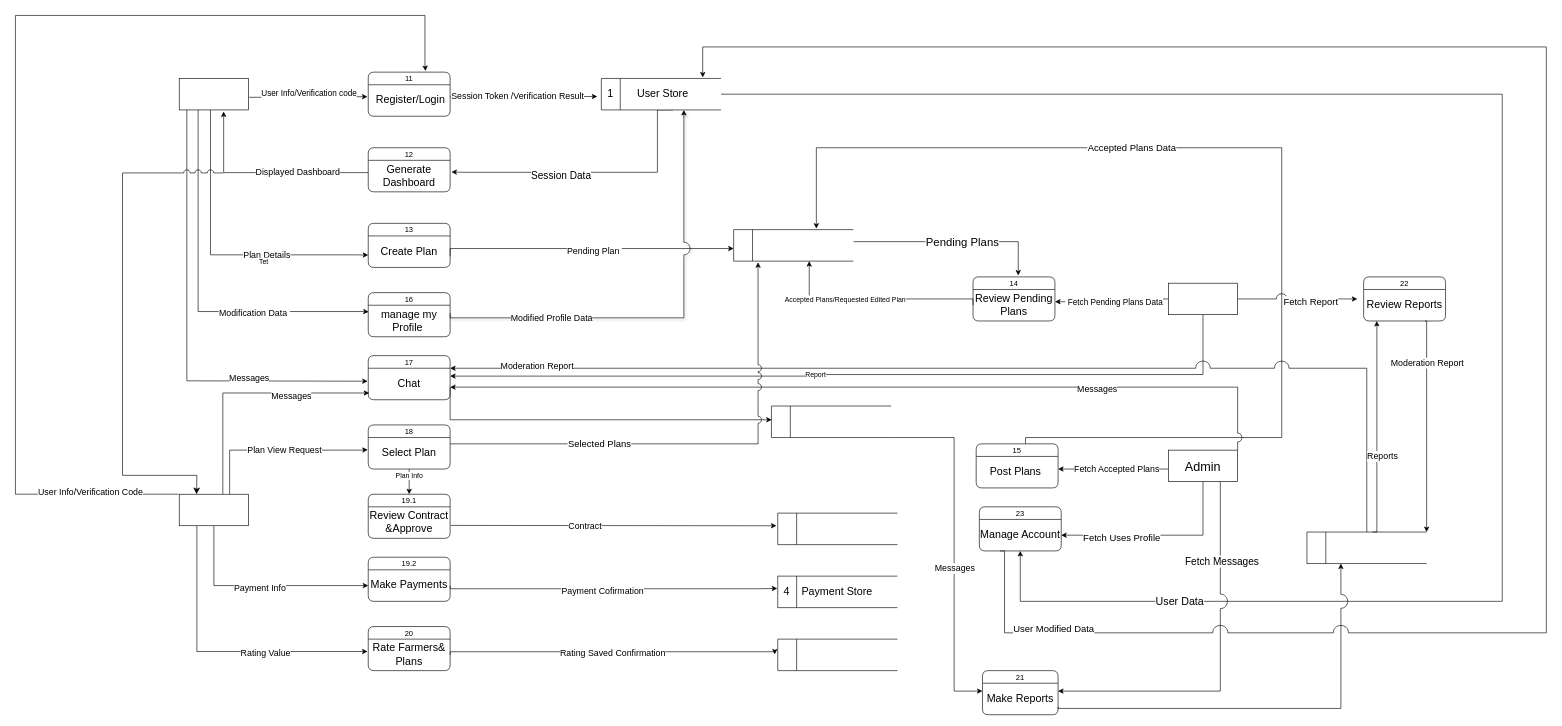
The diagram is 1562 pixels wide and 726 high, and some of its shapes have lost their labels. The centre of each missing label's shape, as x and y in pixels:
"1 Plans Store" belongs at [793,245].
"2 Messages Store" belongs at [831,421].
"3 Documents Store" belongs at [837,529].
"5 Rating Store" belongs at [837,655].
"6 Report Store" belongs at [1366,547].
"Expert" belongs at [1203,299].
"Farmer" belongs at [214,94].
"Investor" belongs at [214,510].
